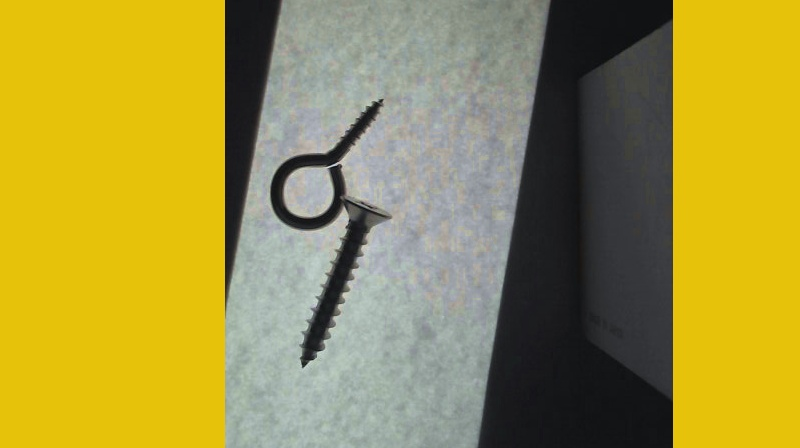O001: (269, 95, 385, 227)
S001: (297, 187, 392, 373)
